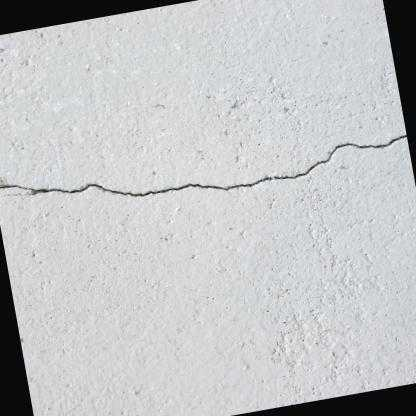crack: (0, 131, 407, 198)
